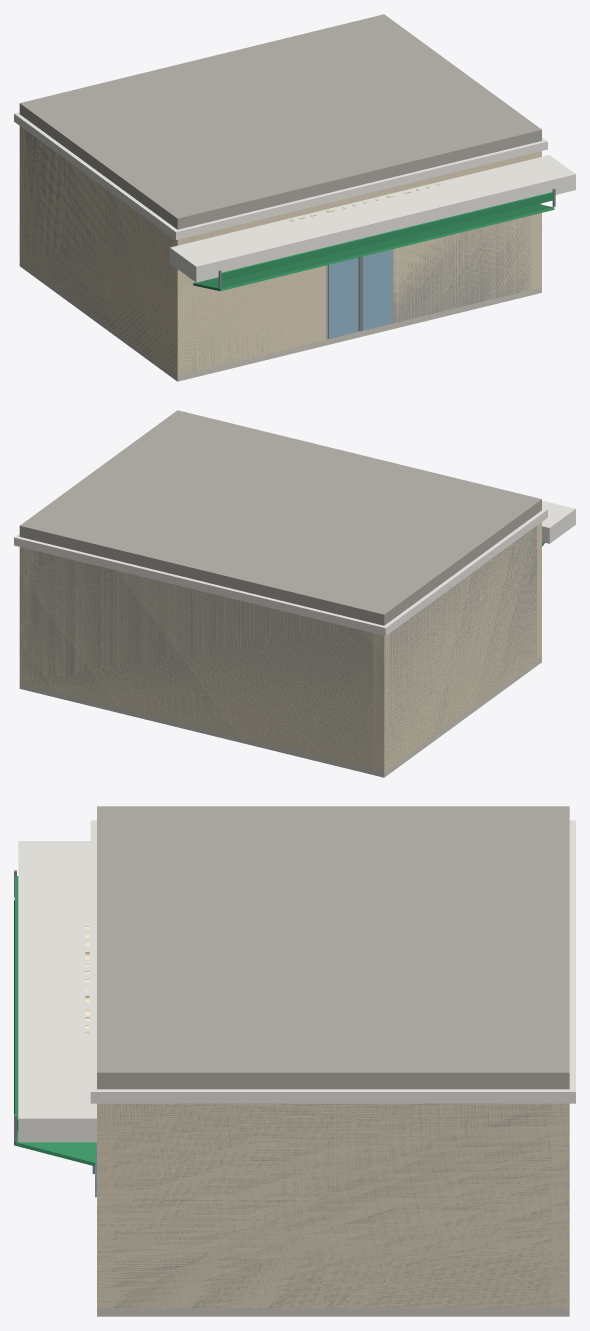
File: BLD_Safehouse.fbx
The picture shows the model from 3 angles, top to bottom: view 1: azimuth 30°, elevation 25°; view 2: azimuth 150°, elevation 25°; view 3: azimuth 270°, elevation 25°; orthographic projection. The views are drawn at different scales.
Parts seen in each view (by area): view 1: BLD_Safehouse__BODY, BLD_Safehouse__COL_Main; view 2: BLD_Safehouse__BODY, BLD_Safehouse__COL_Main; view 3: BLD_Safehouse__BODY, BLD_Safehouse__COL_Main.
Boxes of the visible parts, x1=… form: BLD_Safehouse__BODY: x1=14, y1=14, x2=575, y2=381; BLD_Safehouse__COL_Main: x1=19, y1=104, x2=541, y2=375; BLD_Safehouse__BODY: x1=14, y1=410, x2=575, y2=777; BLD_Safehouse__COL_Main: x1=19, y1=499, x2=541, y2=770; BLD_Safehouse__BODY: x1=14, y1=806, x2=575, y2=1316; BLD_Safehouse__COL_Main: x1=97, y1=1072, x2=569, y2=1308.
Bounding box in the file's own units: 12.5 × 5.13 × 10.7.
